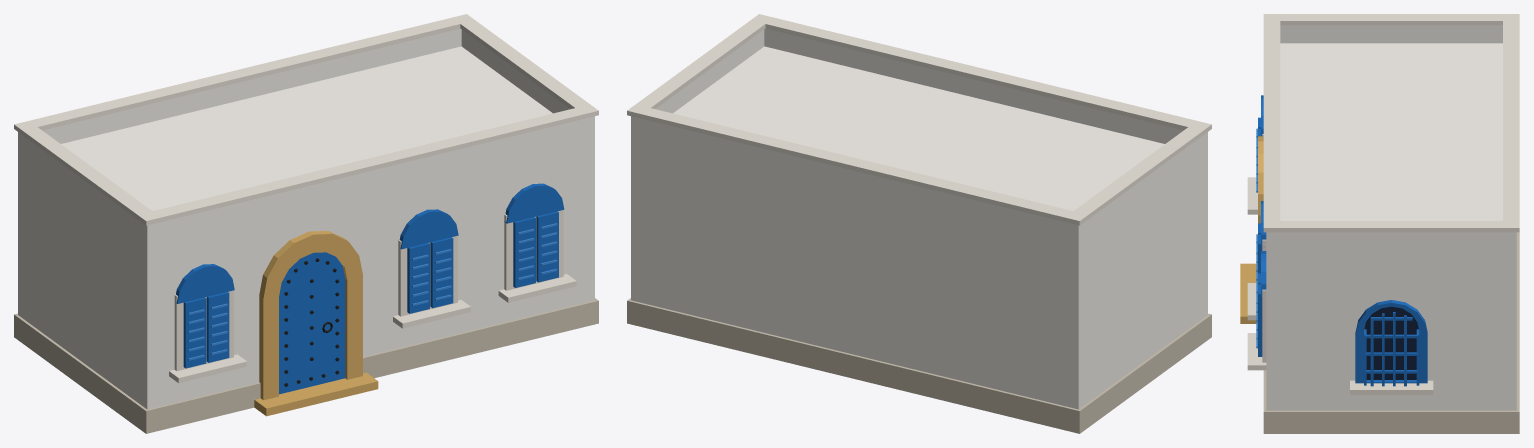
Rendered from SidiBouSaid_House09_1.fbx.
3 renders of one model, left to right at view 1: azimuth 30°, elevation 25°; view 2: azimuth 150°, elevation 25°; view 3: azimuth 270°, elevation 25°, orthographic. The views are drawn at different scales.
Visible parts, largest first — view 1: Wall_White, Trim_OffWhite, Wood_Blue, Plinth_Grey, Stone_Sand, Wood_BlueLight; view 2: Wall_White, Trim_OffWhite, Plinth_Grey; view 3: Wall_White, Trim_OffWhite, Plinth_Grey, Wood_Blue, Window_Dark, Stone_Sand, Wood_BlueLight.
Part boxes in pixels (bbox=[...]): Wall_White: bbox=[18, 28, 594, 409]; Trim_OffWhite: bbox=[14, 14, 598, 383]; Wood_Blue: bbox=[176, 183, 564, 394]; Plinth_Grey: bbox=[14, 298, 598, 433]; Stone_Sand: bbox=[254, 230, 378, 416]; Wood_BlueLight: bbox=[188, 223, 557, 360]; Wall_White: bbox=[631, 28, 1207, 409]; Trim_OffWhite: bbox=[627, 14, 1211, 225]; Plinth_Grey: bbox=[627, 298, 1211, 433]; Wall_White: bbox=[1266, 25, 1516, 410]; Trim_OffWhite: bbox=[1247, 14, 1519, 394]; Plinth_Grey: bbox=[1263, 232, 1519, 433]; Wood_Blue: bbox=[1258, 95, 1427, 386]; Window_Dark: bbox=[1364, 306, 1418, 379]; Stone_Sand: bbox=[1240, 136, 1263, 323]; Wood_BlueLight: bbox=[1256, 128, 1257, 348].
Size of the model in its own units: 7.56 by 3.27 by 4.01.
